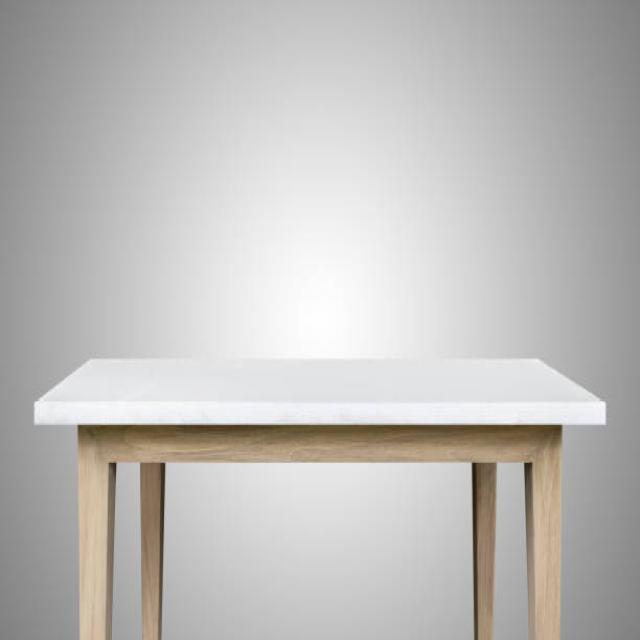table: (32, 354, 606, 638)
